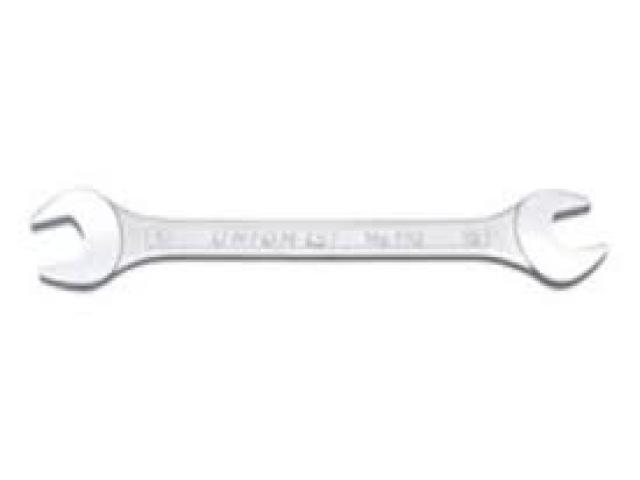Wrench: (28, 186, 620, 291)
